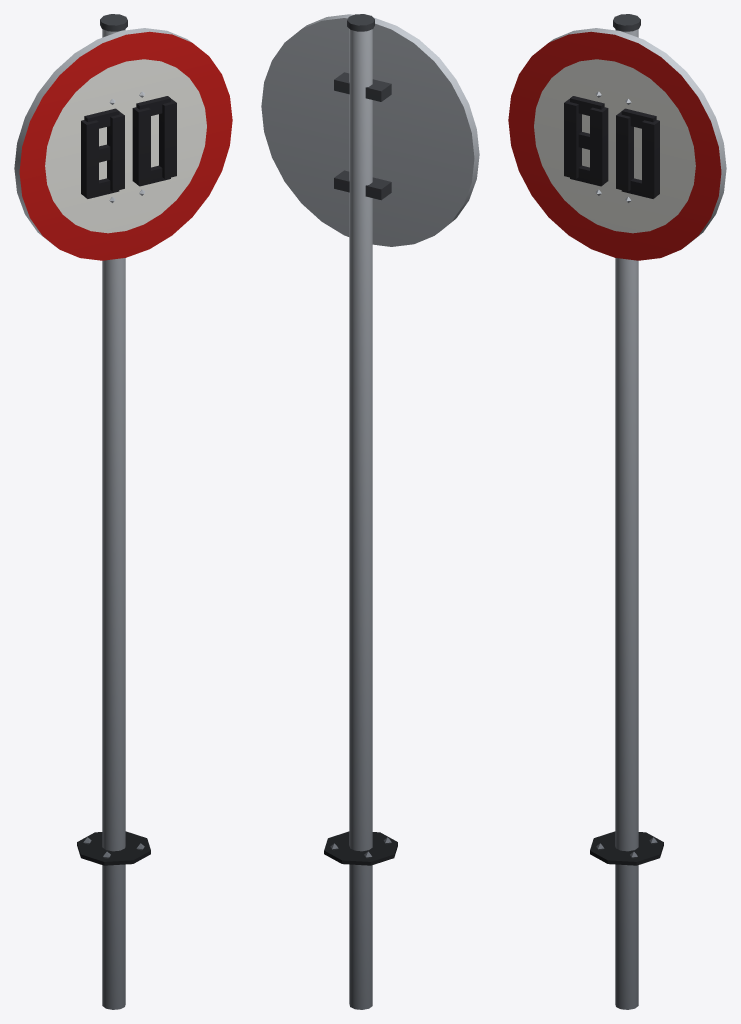
Rendered from Sign_Speed80.fbx.
The picture shows the model from 3 angles, left to right: view 1: azimuth 30°, elevation 25°; view 2: azimuth 150°, elevation 25°; view 3: azimuth 330°, elevation 25°; orthographic projection.
Parts seen in each view (by area): view 1: Sign_Speed80_LOD0; view 2: Sign_Speed80_LOD0; view 3: Sign_Speed80_LOD0.
Part boxes in pixels (x1,y1,x2,y2): Sign_Speed80_LOD0: (14, 14, 232, 1009); Sign_Speed80_LOD0: (261, 14, 479, 1009); Sign_Speed80_LOD0: (508, 14, 726, 1009).
Size of what is drawn, in the model's own units: 0.72 by 3.18 by 0.224.
Materials: 1 (1 with a texture image).
